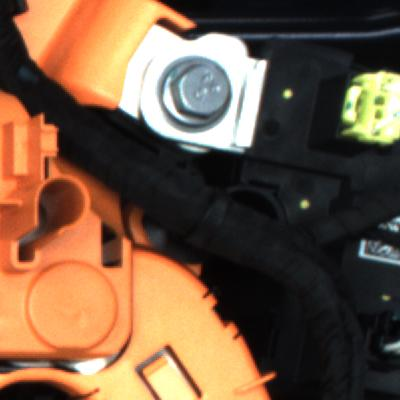nut_b: (156, 53, 249, 141)
